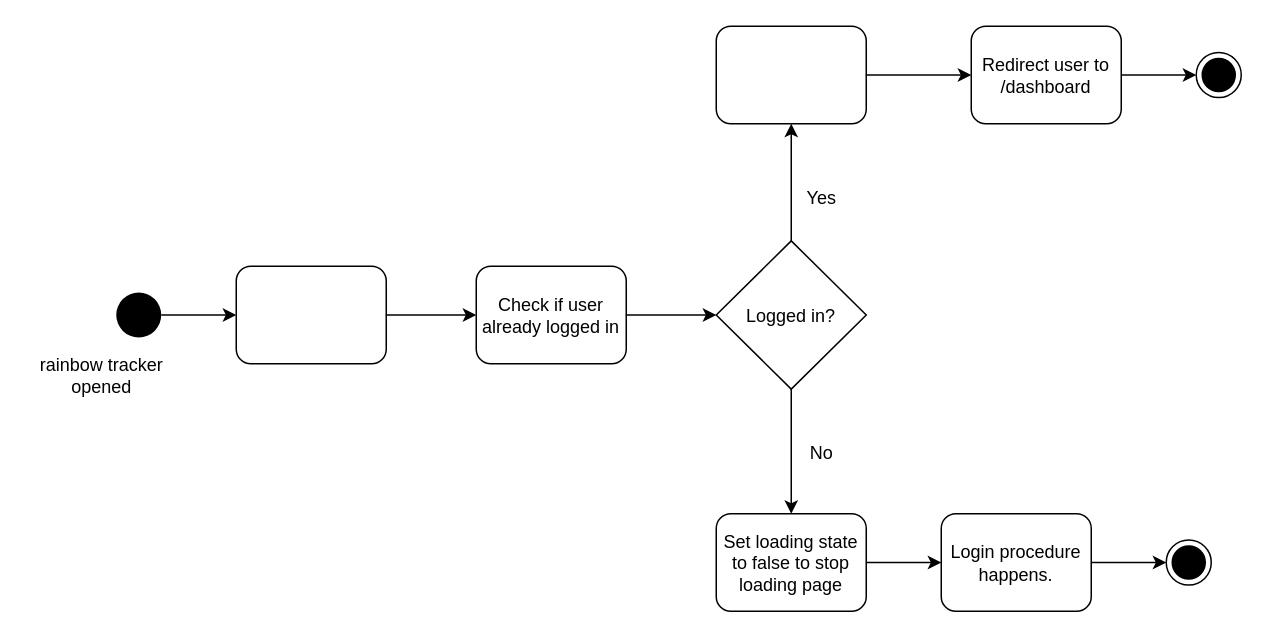
Some shapes in this 1268 by 638 pixel diagram are drawn without their labels. Each missing label, with the centre of its shape:
"Display loading page" belongs at pixel 310 314.
"Set user id in store" belongs at pixel 790 74.
